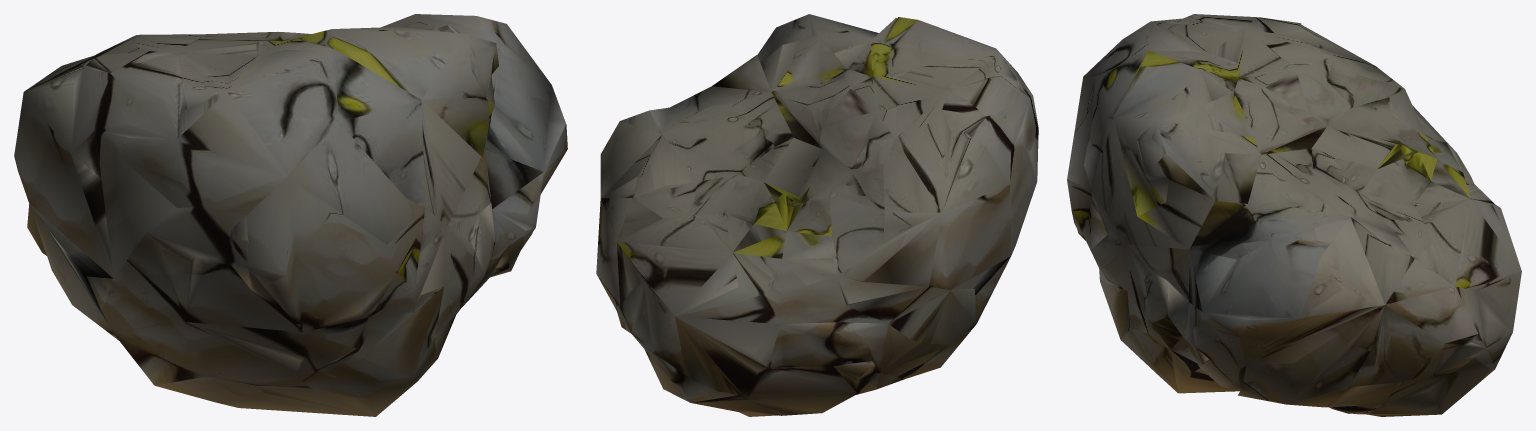
Rendered from rock.glb.
3 views of the same model, side by side, from view 1: azimuth 30°, elevation 25°; view 2: azimuth 150°, elevation 25°; view 3: azimuth 270°, elevation 25° (orthographic). The views are drawn at different scales.
Parts seen in each view (by area): view 1: tripo_node_4f8da38a-6d22-45fe-a612-dfb058bce1f5; view 2: tripo_node_4f8da38a-6d22-45fe-a612-dfb058bce1f5; view 3: tripo_node_4f8da38a-6d22-45fe-a612-dfb058bce1f5.
Part boxes in pixels (x1,y1,x2,y2): tripo_node_4f8da38a-6d22-45fe-a612-dfb058bce1f5: (14,14,567,416); tripo_node_4f8da38a-6d22-45fe-a612-dfb058bce1f5: (596,14,1038,416); tripo_node_4f8da38a-6d22-45fe-a612-dfb058bce1f5: (1067,14,1521,416).
Bounding box in the file's own units: 1 × 0.758 × 0.9714.
Materials: 1 (1 with a texture image).
